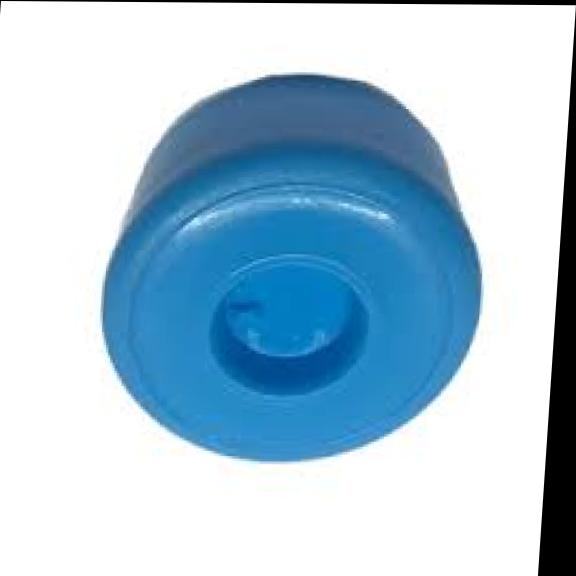Plastik: (99, 71, 483, 463)
